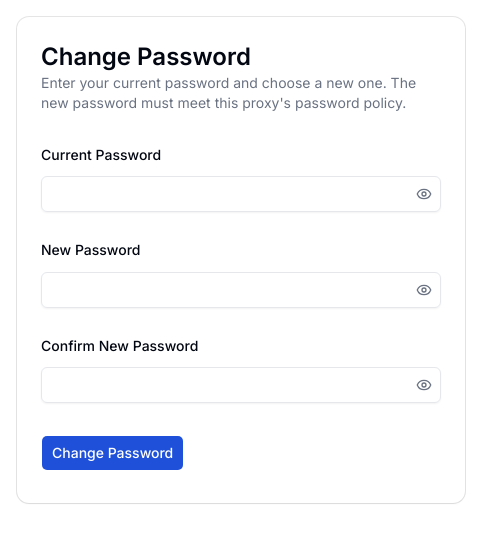
it: ChangePasswordForm › blocks submission when the confirmation does not match
In the password field labelled "Current Password": (227, 194) [42, 176, 412, 212], type "OldP@ssw0rd-2026"
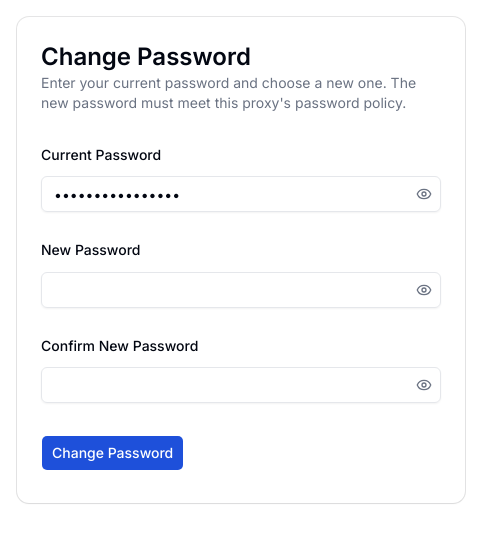
In the password field labelled "New Password": (227, 290) [42, 272, 412, 308], type "NewP@ssw0rd-2026"
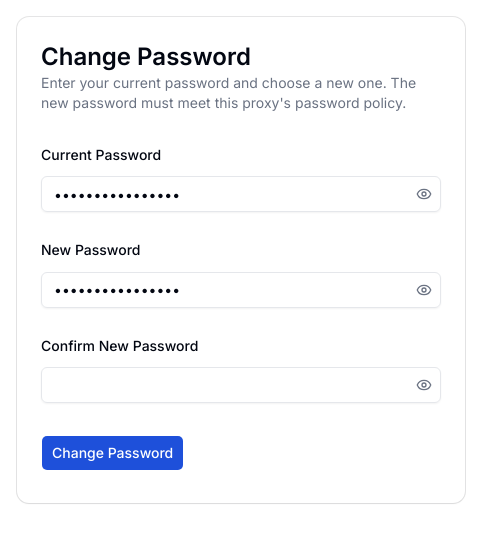
In the password field labelled "Confirm New Password": (227, 385) [42, 367, 412, 403], type "Different-2026"
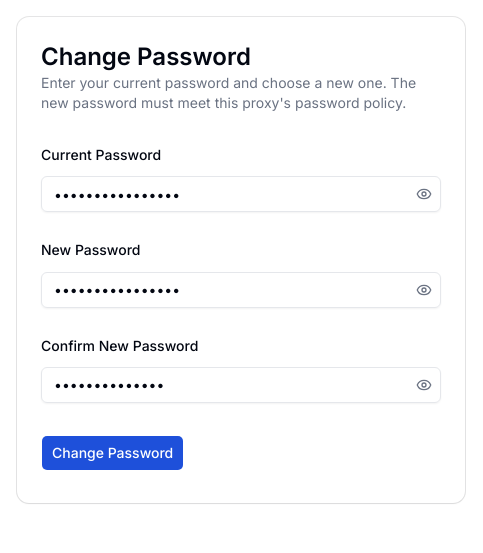
Click the button "Change Password": click(113, 453) [41, 435, 184, 471]
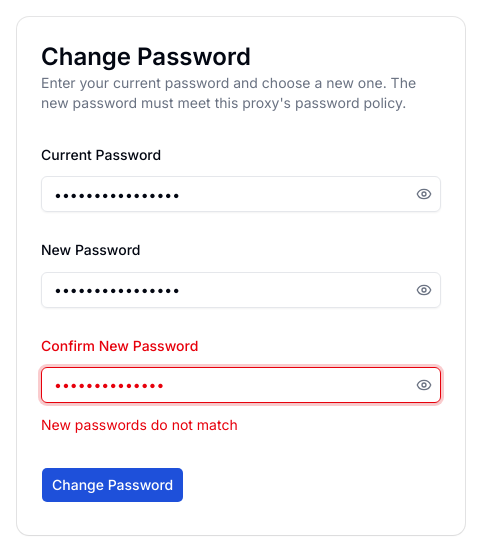
Expected: the text "New passwords do not match" is shown, [41, 416, 238, 433]
